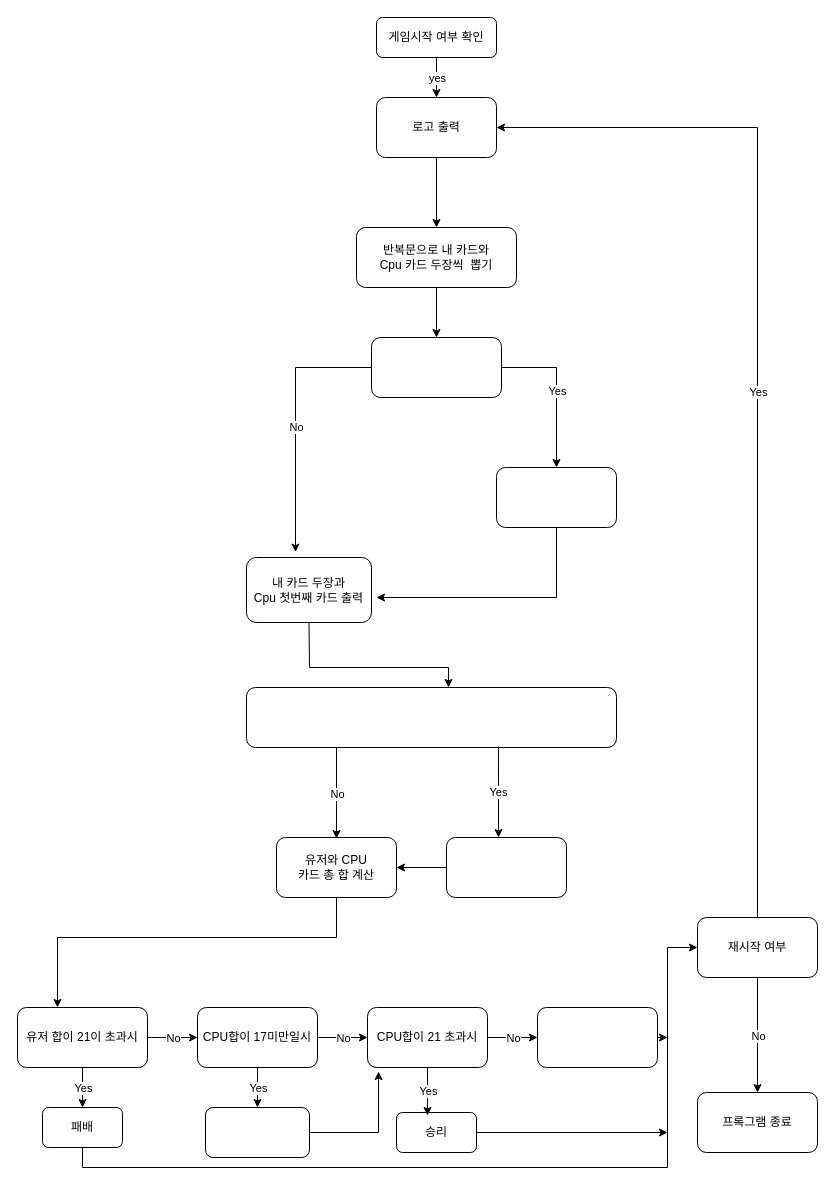
Image size: 835x1193. Some labels were removed from this diagram. Each missing label, with the centre of its shape:
"17이상 21이하 일때 까지 뽑기" belongs at (x=257, y=1132).
"A 값 정하기(1,11)" belongs at (x=556, y=497).
"내 카드 리스트에 A포함" belongs at (x=436, y=367).
"유저 배열에 한장 추가" belongs at (x=506, y=867).
"유저가 한장을 더 뽑을지 선택" belongs at (x=431, y=717).
"유저와 CPU값 비교 이기면 win 비기면 draw 지면 lose" belongs at (x=597, y=1037).
